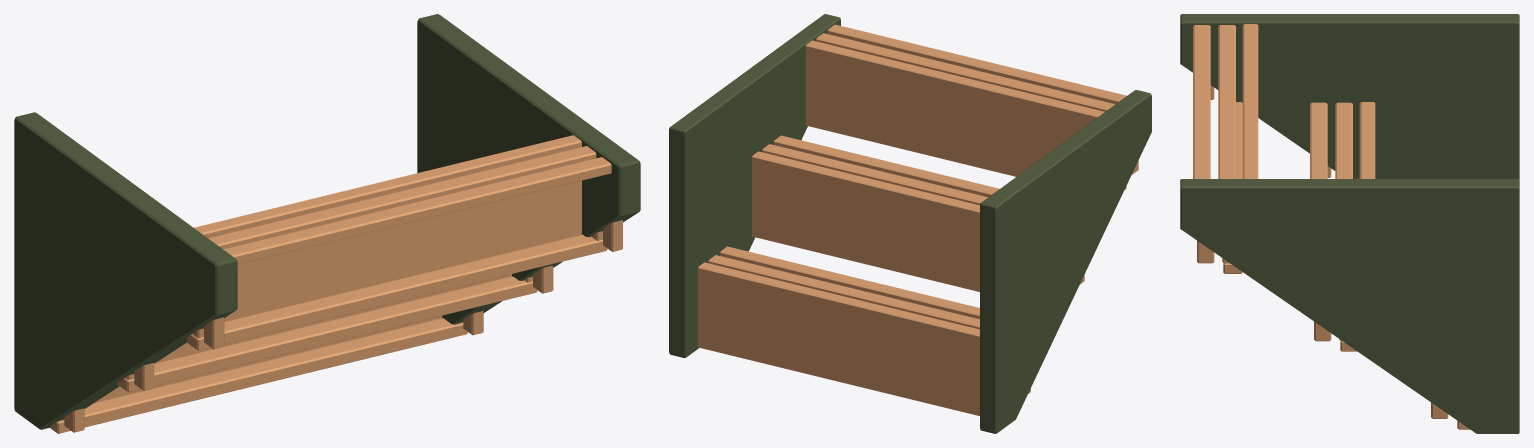
File: fixture_06_produce_stand.glb
The picture shows the model from 3 angles, left to right: view 1: azimuth 30°, elevation 25°; view 2: azimuth 150°, elevation 25°; view 3: azimuth 270°, elevation 25°; orthographic projection. The views are drawn at different scales.
Visible parts, largest first — view 1: fixture_06_produce_stand; view 2: fixture_06_produce_stand; view 3: fixture_06_produce_stand.
Boxes of the visible parts, x1,y1,x2,y2 form: fixture_06_produce_stand: (14,14,640,433); fixture_06_produce_stand: (669,14,1151,433); fixture_06_produce_stand: (1180,14,1519,433).
Size of what is drawn, in the model's own units: 1.06 by 0.7 by 0.87.
